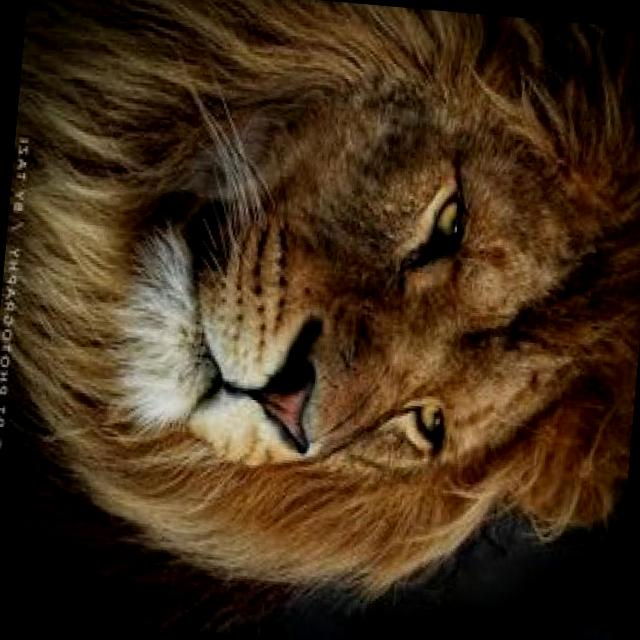lions: (4, 0, 640, 631)
